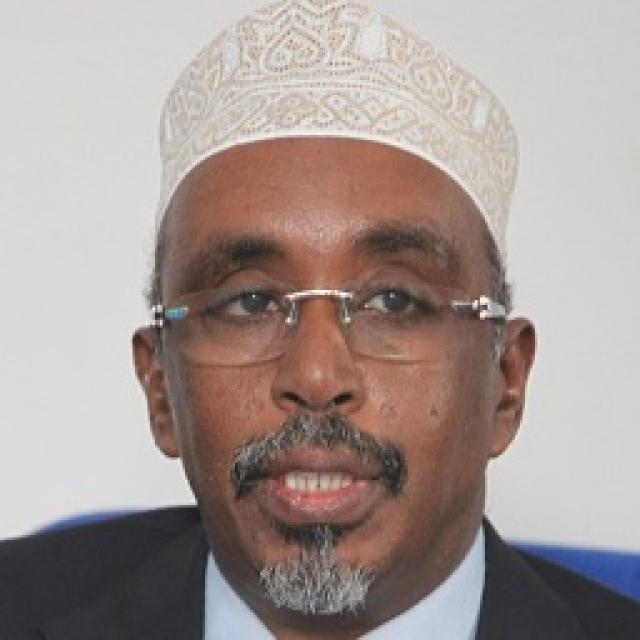glasses: (130, 275, 512, 374)
